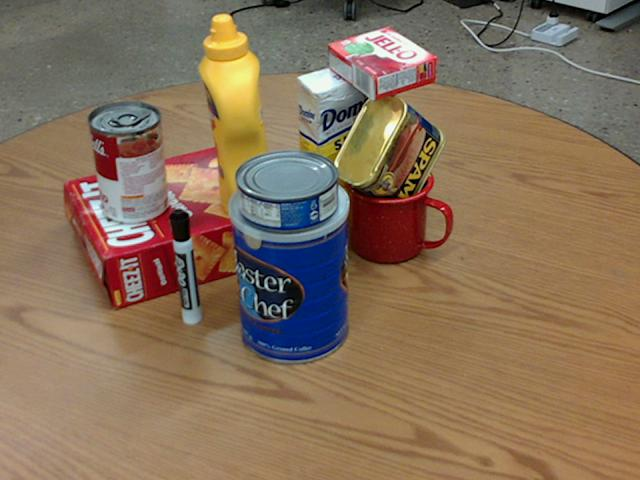cracker_box: (66, 142, 310, 309)
gelatin_box: (326, 27, 435, 100)
large_marker: (170, 209, 202, 324)
master_chef_can: (225, 169, 348, 362)
mug: (346, 156, 454, 263)
mustard_bottle: (198, 14, 276, 218)
potted_meat_can: (332, 92, 443, 215)
sugar_box: (297, 56, 391, 236)
tomato_soup_can: (87, 101, 167, 224)
tuna_fish_can: (234, 148, 337, 231)
